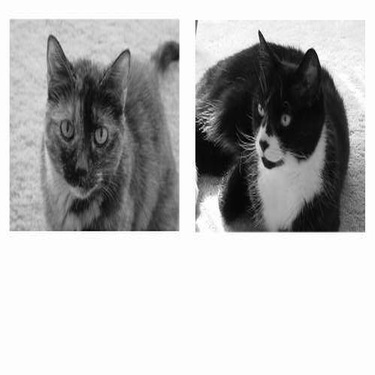cat: (200, 28, 349, 231), (40, 31, 180, 229)
